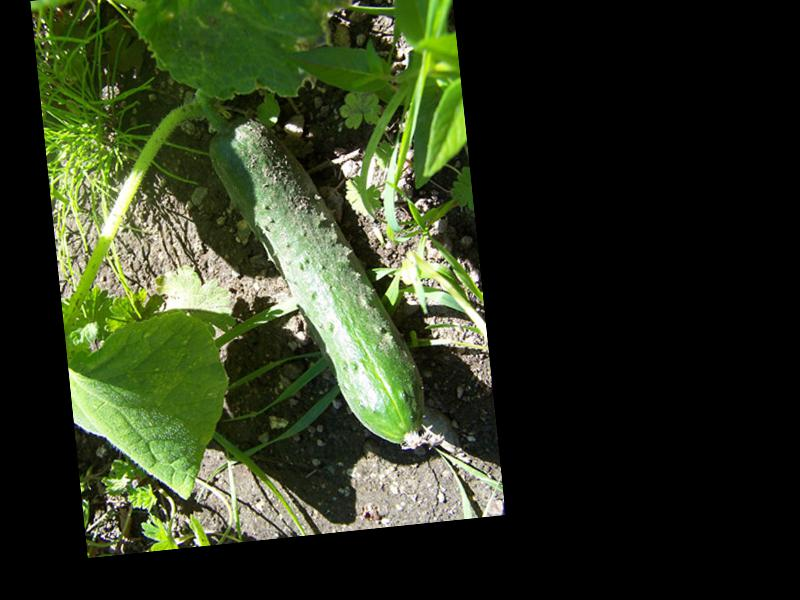Cucumber: (205, 99, 430, 465)
